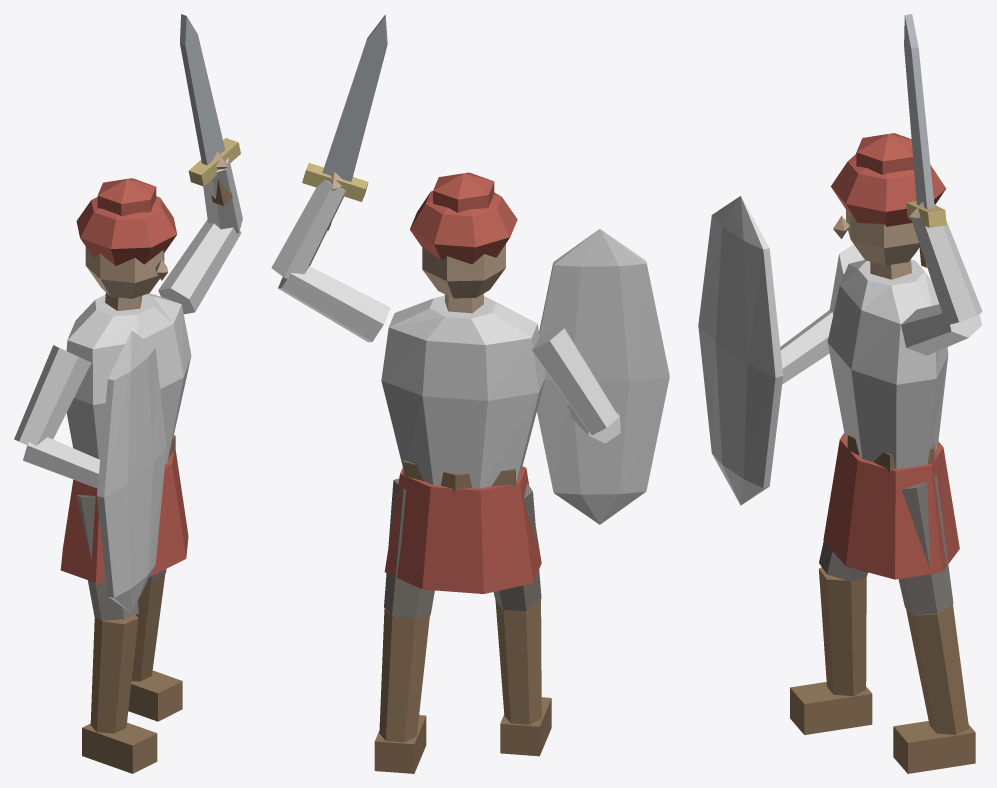
File: kris-swordsman.glb
3 views of the same model, side by side, from view 1: azimuth 30°, elevation 25°; view 2: azimuth 150°, elevation 25°; view 3: azimuth 270°, elevation 25° (orthographic). The views are drawn at different scales.
Visible parts, largest first — view 1: LOD0; view 2: LOD0; view 3: LOD0.
Boxes of the visible parts, left/top/right/bottom form: LOD0: left=14, top=14, right=242, bottom=773; LOD0: left=271, top=14, right=669, bottom=773; LOD0: left=698, top=14, right=982, bottom=773.
Size of what is drawn, in the model's own units: 0.5318 by 1.28 by 0.4325.
